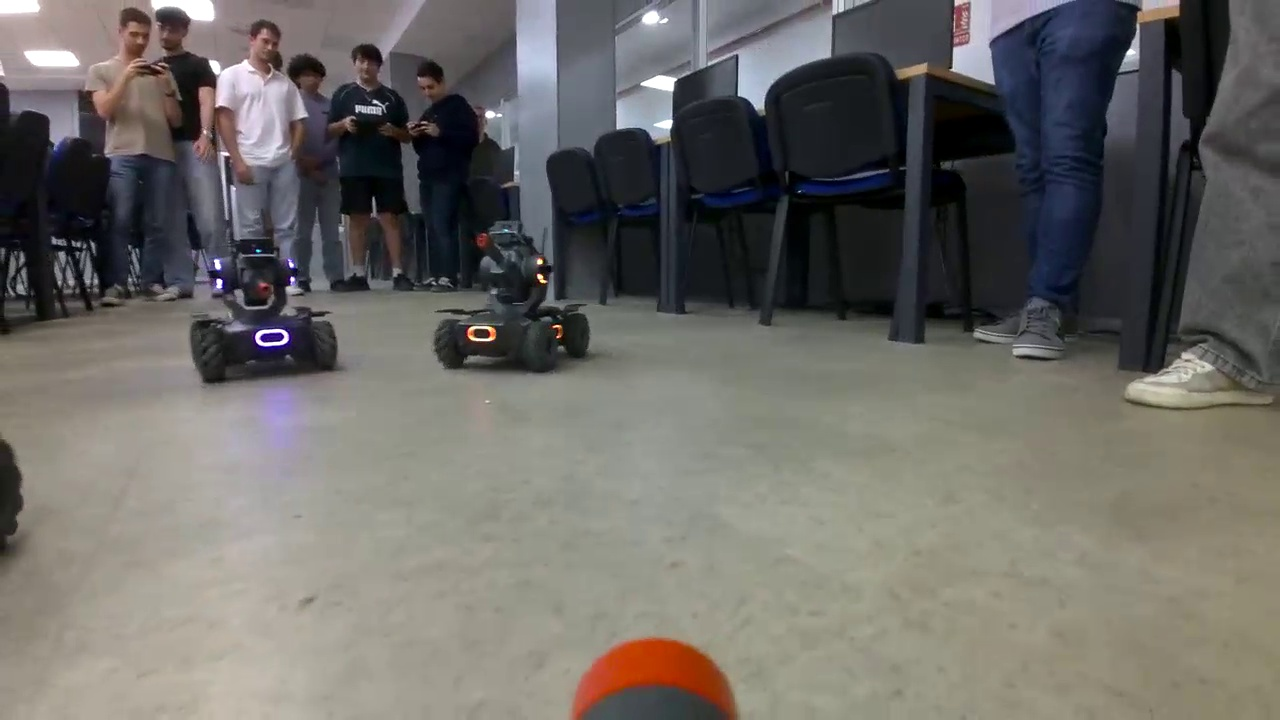robot: (432, 219, 592, 372), (188, 236, 339, 383)
